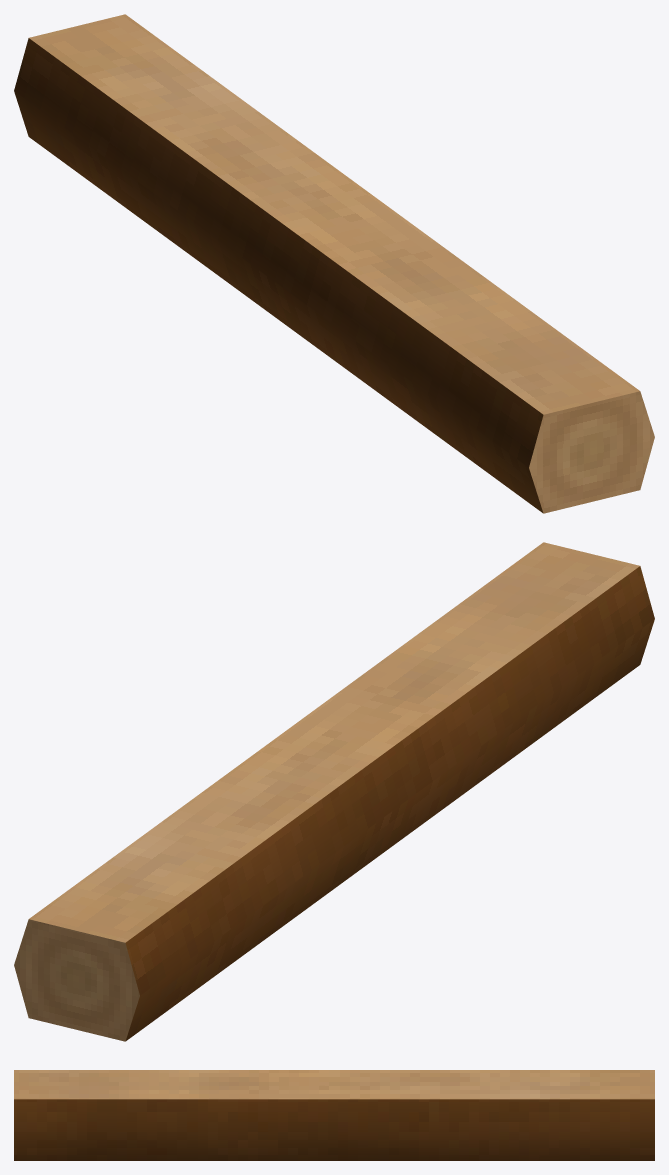
File: Docks_Support_Brace_1x1.glb
The picture shows the model from 3 angles, top to bottom: view 1: azimuth 30°, elevation 25°; view 2: azimuth 150°, elevation 25°; view 3: azimuth 270°, elevation 25°; orthographic projection. The views are drawn at different scales.
Parts seen in each view (by area): view 1: Docks_Support_Brace_1x1; view 2: Docks_Support_Brace_1x1; view 3: Docks_Support_Brace_1x1.
Boxes of the visible parts, bbox=[...] form: Docks_Support_Brace_1x1: bbox=[14, 14, 654, 513]; Docks_Support_Brace_1x1: bbox=[14, 542, 654, 1041]; Docks_Support_Brace_1x1: bbox=[14, 1070, 654, 1160].
Size of what is drawn, in the model's own units: 12.5 by 9.38 by 88.44.
Materials: 3 (3 with a texture image).
